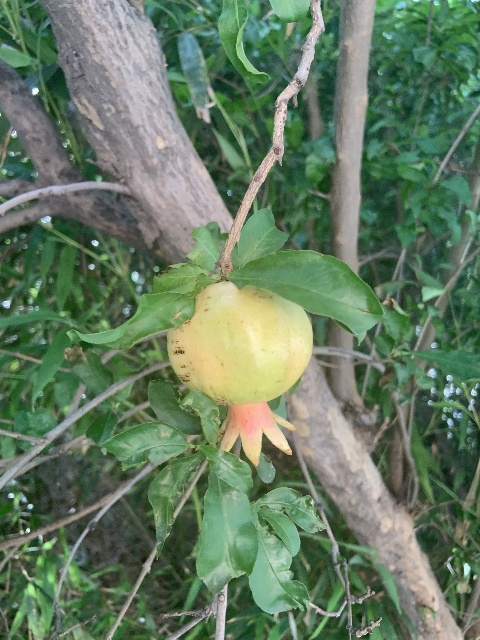mid-growth: (167, 280, 312, 467)
